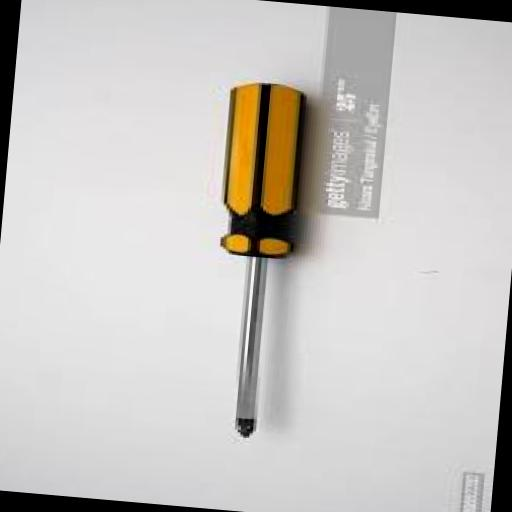screwdriver: (200, 79, 308, 439)
